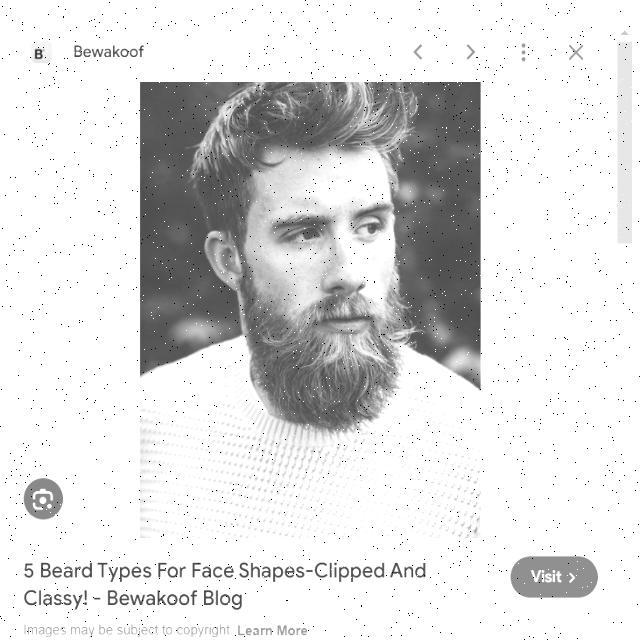face_no_mask: (203, 137, 413, 389)
